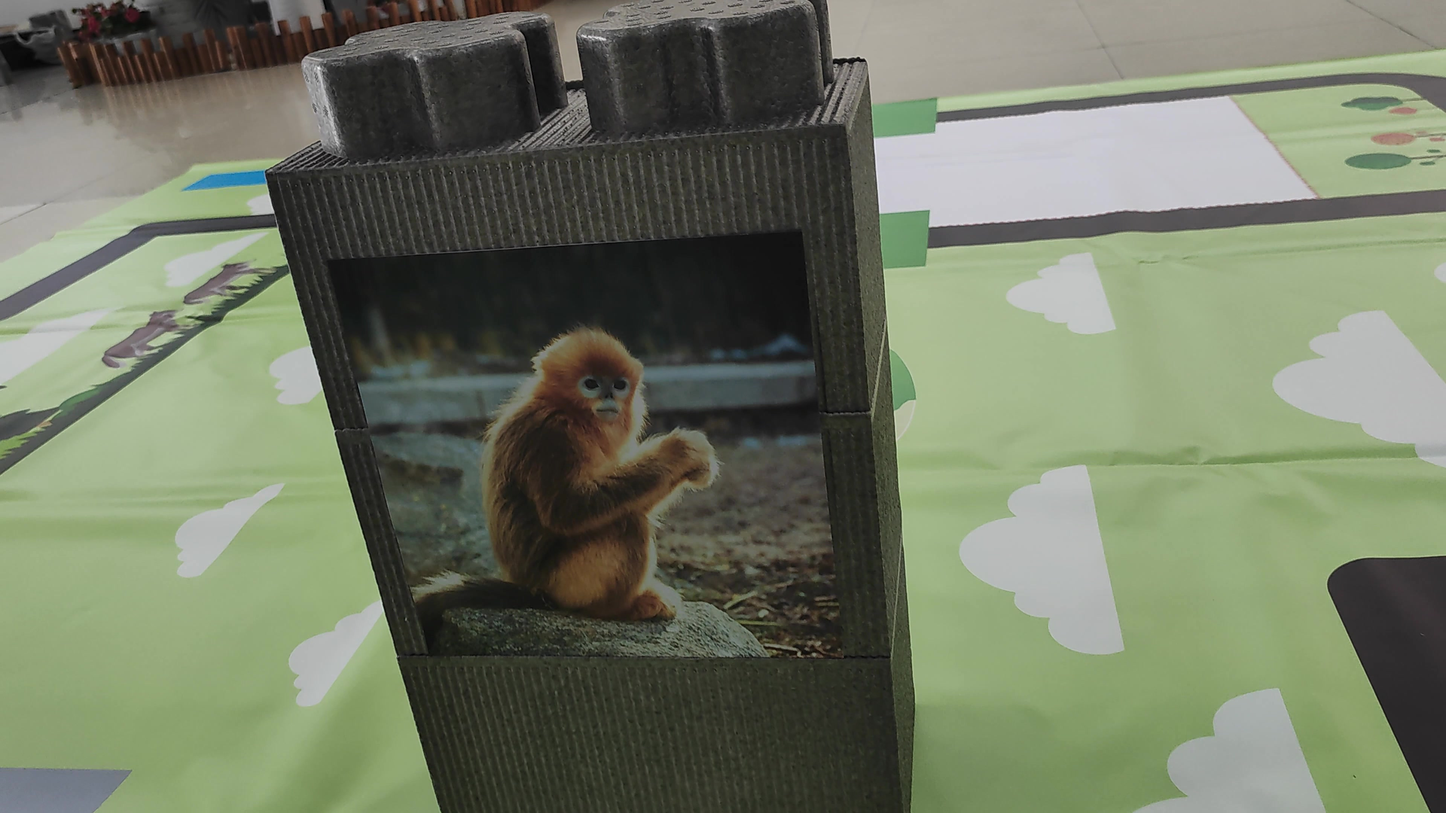monkey: (395, 302, 735, 652)
